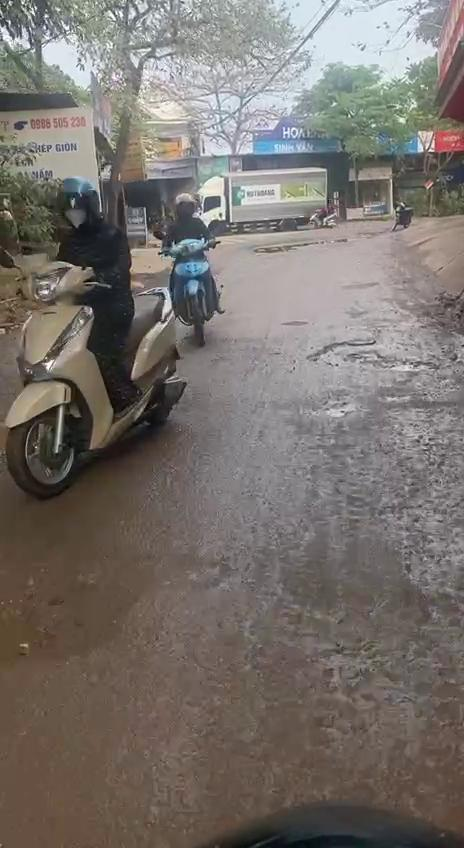pothole: (0, 518, 173, 668), (305, 332, 434, 382)
